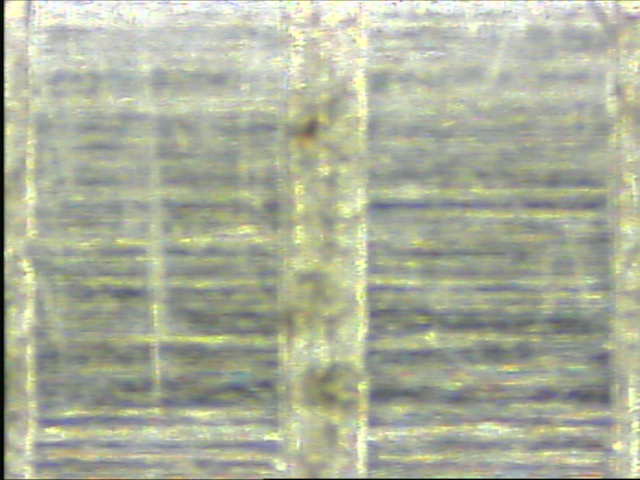line: (281, 1, 371, 474)
